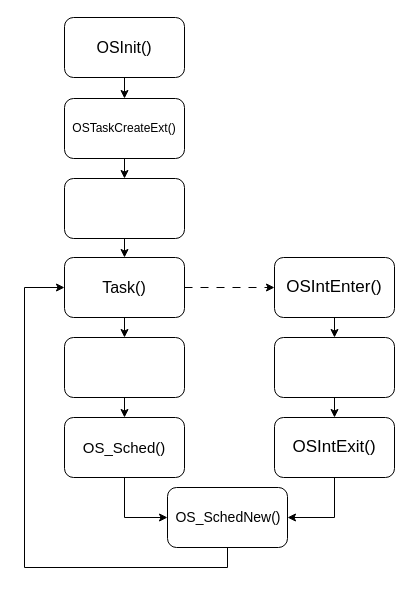
The diagram is 412 pixels wide and 593 high, and some of its shapes have lost their labels. The shapes that lost their labels are listed below. From the top down, each one's box as (x1, y1, x2, y2) in pixels, then its label:
(64, 178, 184, 238): OSStart()
(64, 336, 184, 398): OSTimeDly()
(274, 336, 394, 398): OSTimeTick()
